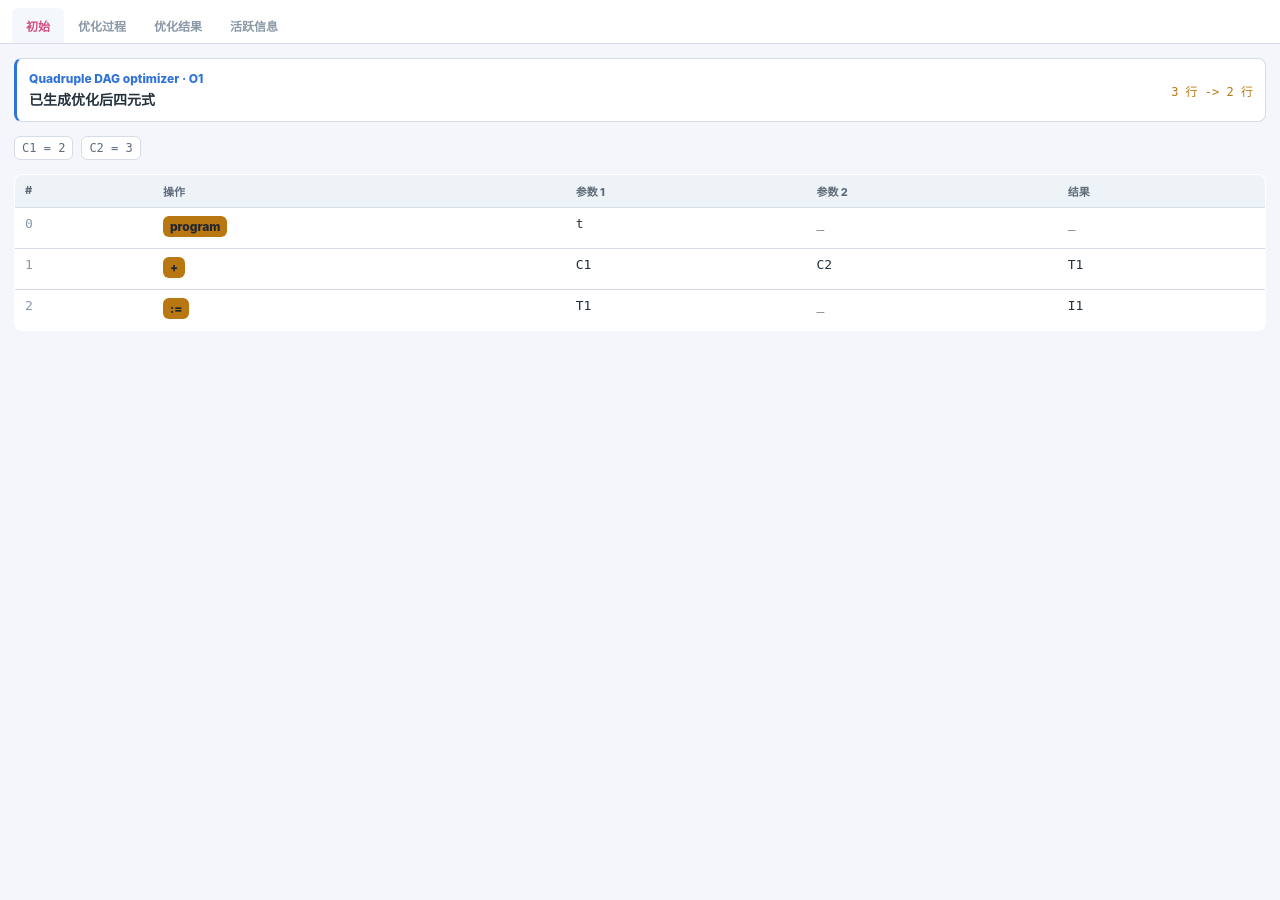
Scenario: QuadruplePanel › switches between optimization process and result
expect the text "C1 = 2" is shown: met, box [14,136,73,160]
Click the tab "优化过程" at (102, 26), box [64,8,140,43]
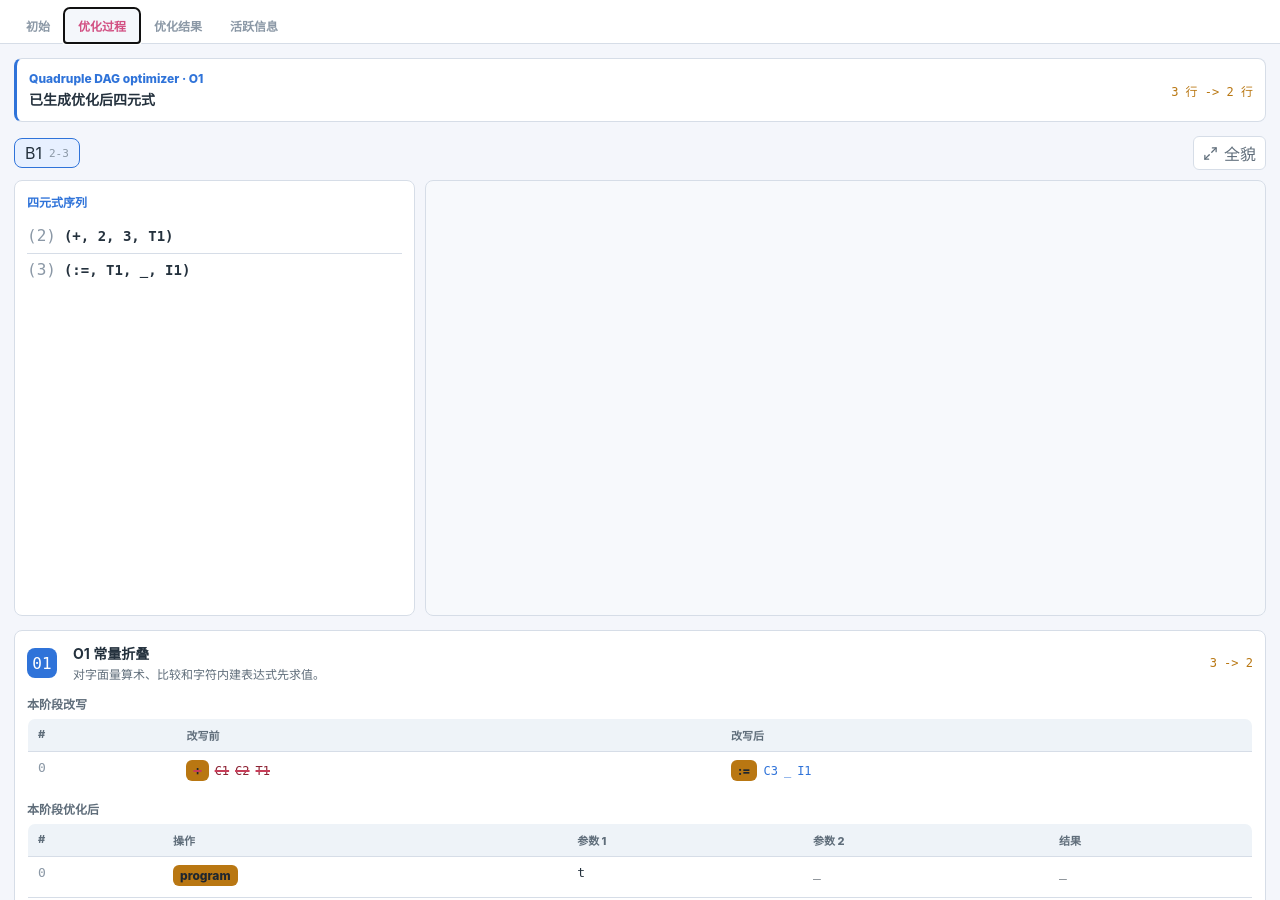
expect the text "四元式序列" is shown: met, box [27,195,87,210]
expect the text "O1 常量折叠" is shown: met, box [73,645,149,662]
expect the text "3 -> 2" is shown: met, box [1210,656,1253,670]
Click the tab "优化结果" at (178, 26), box [140,8,216,43]
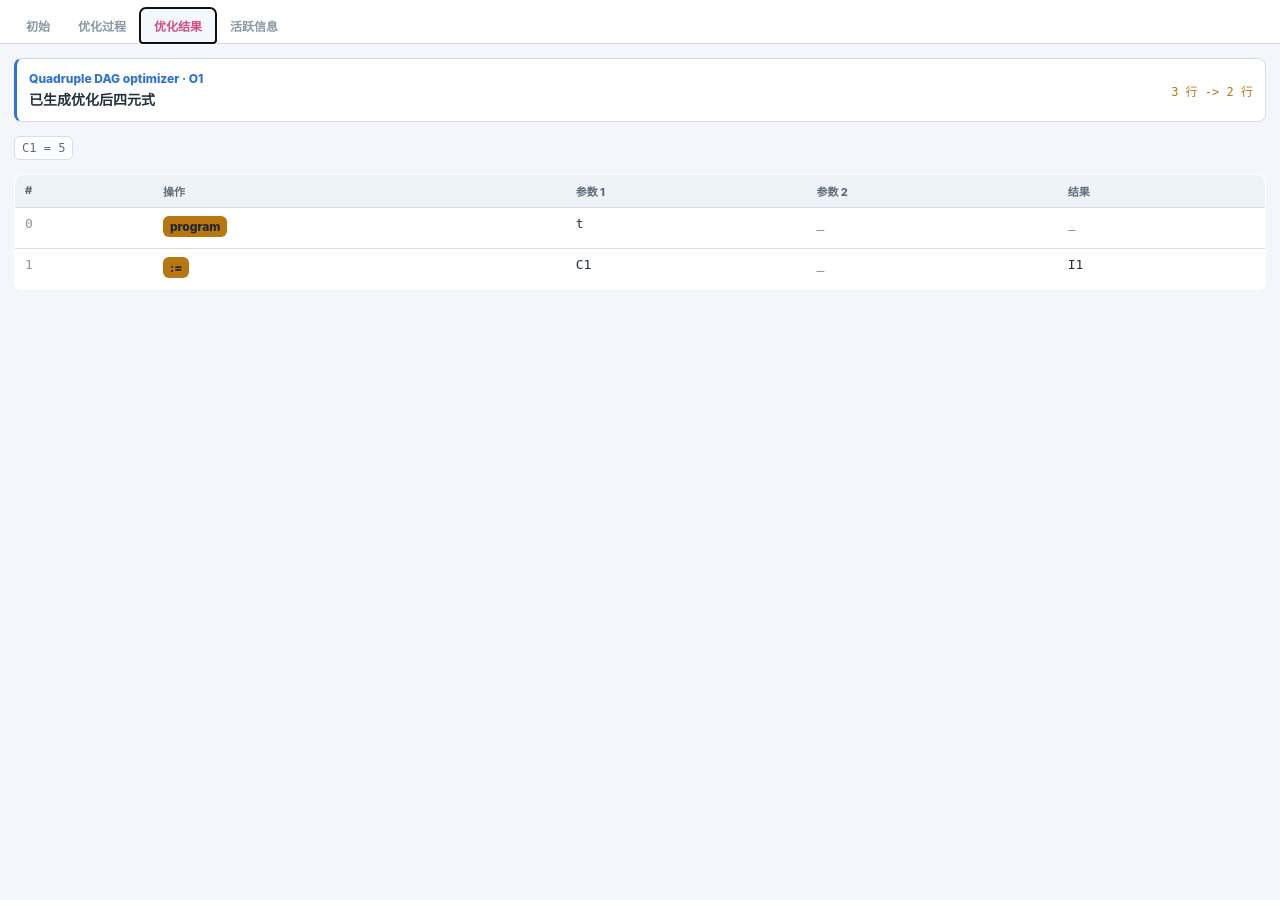
expect the text "C1 = 5" is shown: met, box [14,136,73,160]
